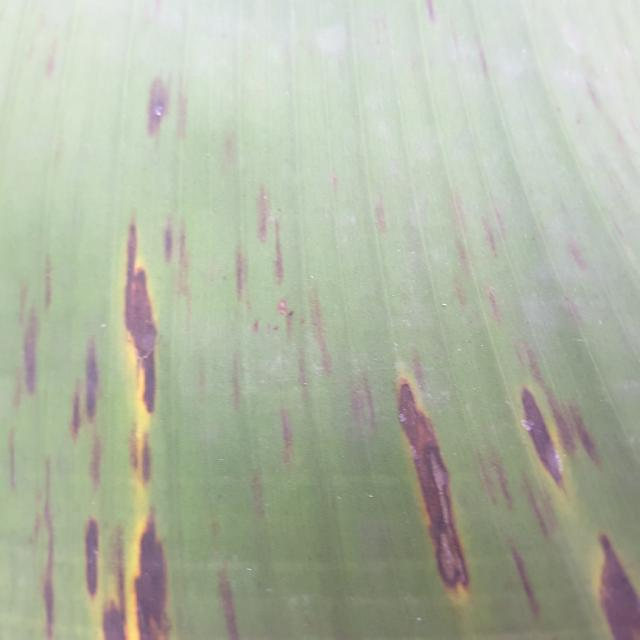Early_rust: (0, 27, 207, 640), (360, 326, 640, 640)
